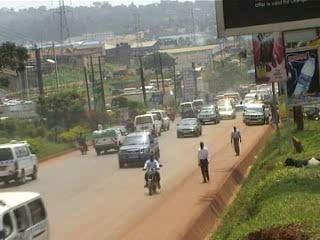Car: (172, 115, 205, 140), (193, 104, 222, 126), (215, 102, 237, 120)
Motorcycle: (140, 153, 164, 197), (76, 128, 89, 157)
